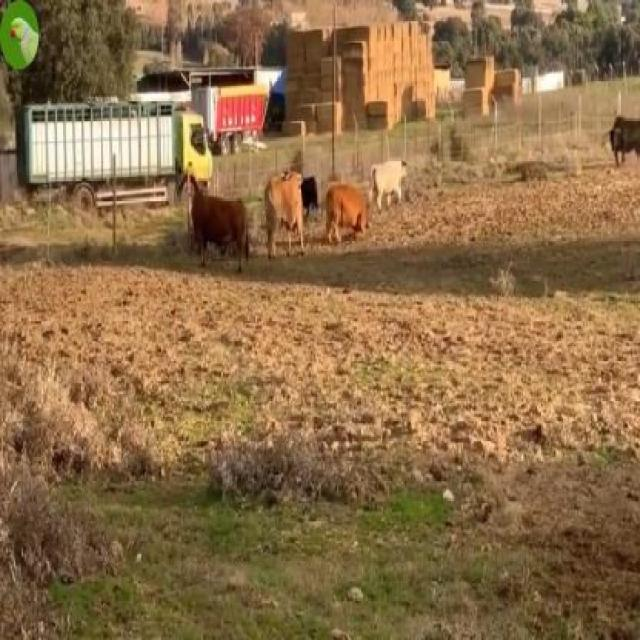Cow: (190, 194, 248, 268)
